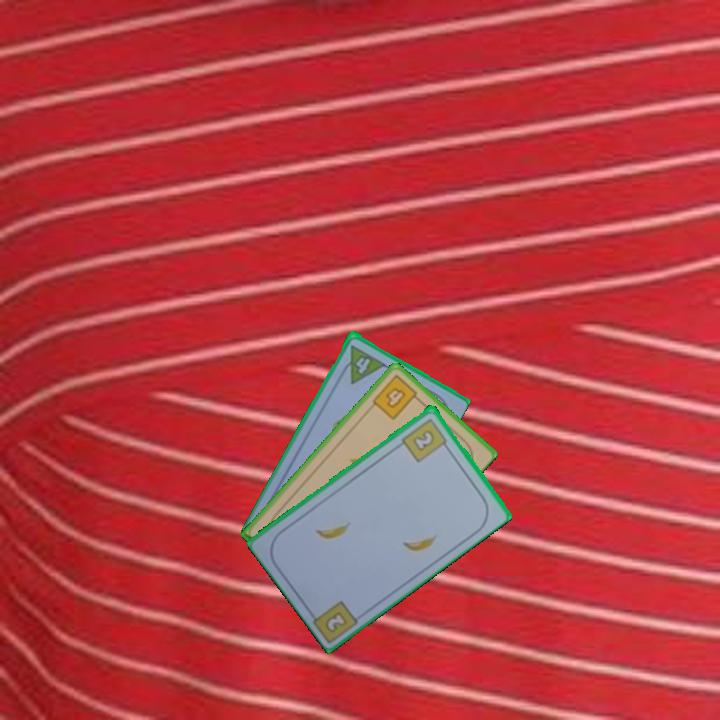2b: (398, 414, 452, 465), (324, 610, 348, 633)
4b: (369, 371, 424, 423)
4p: (336, 341, 387, 386)
